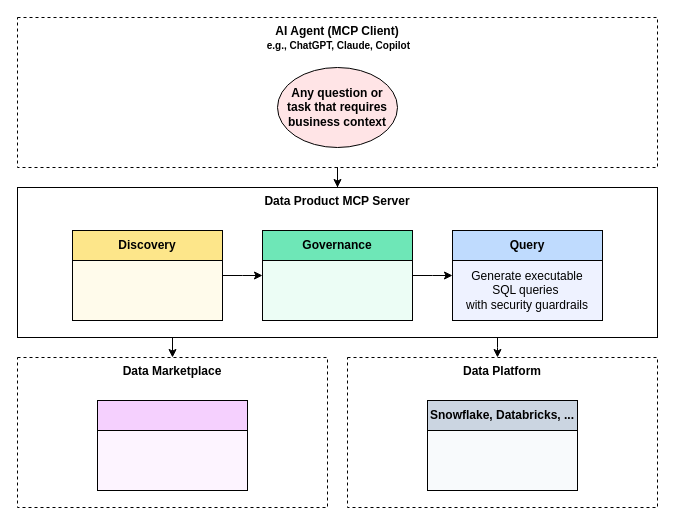
This 675x525 diagram has some shape labels left out. Here are the shapes that lost their labels. From the top down, the centre of each, then its label:
At (x=147, y=290): "Find and evaluate data products based on semantic context".
At (x=337, y=290): "Request access, check data contract terms of use, purpose, global policies".
At (x=172, y=415): "Data Mesh Manager".
At (x=172, y=460): "Metadata and governance platform for data products with data contracts".
At (x=502, y=460): "Actual data".
